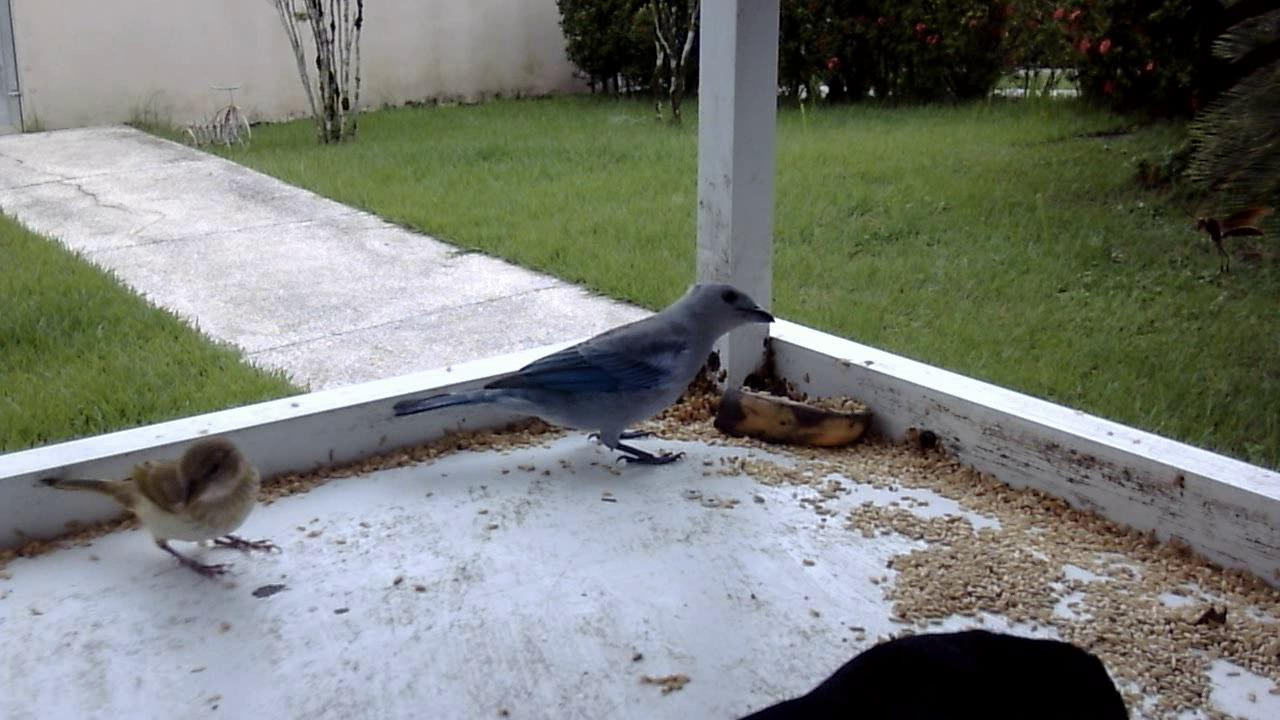canario_do_amazonas: (34, 433, 280, 584)
sanhaco_da_amazonia: (398, 277, 780, 478)
